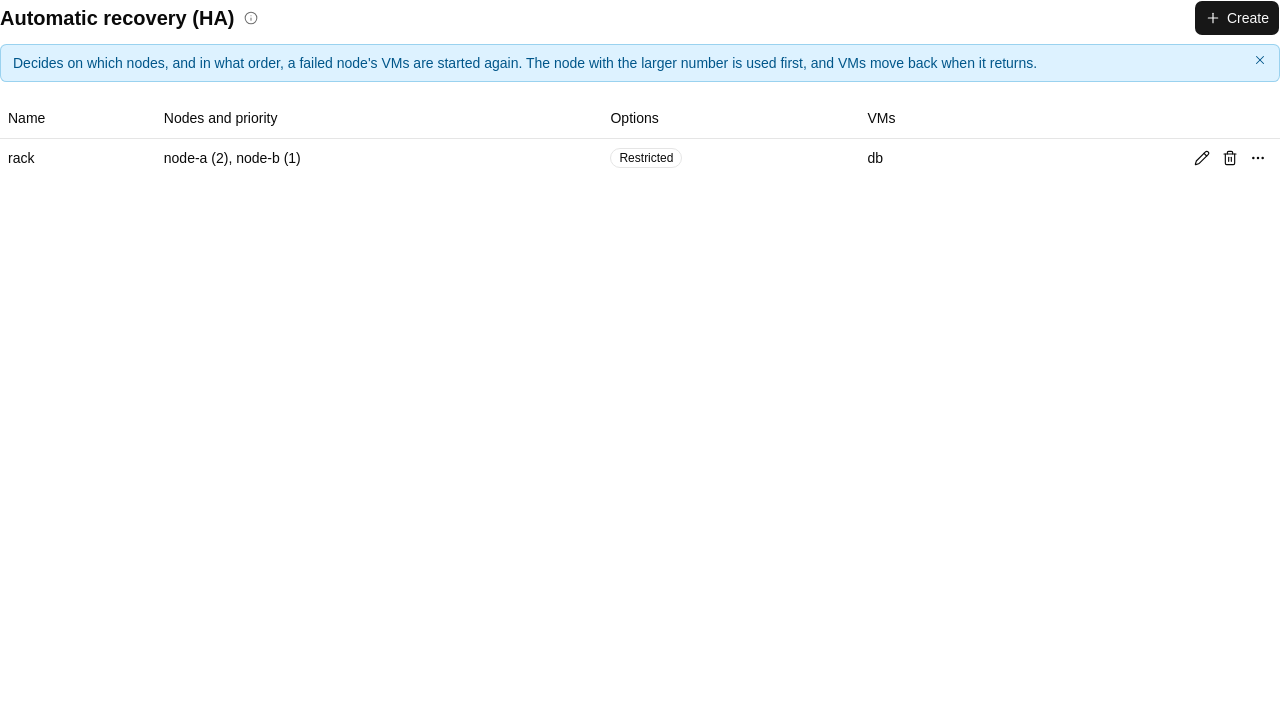
Scenario: says why a group in use cannot be deleted
Click the button named "Delete HA group rack": coordinates (1230, 158) [1216, 144, 1244, 172]
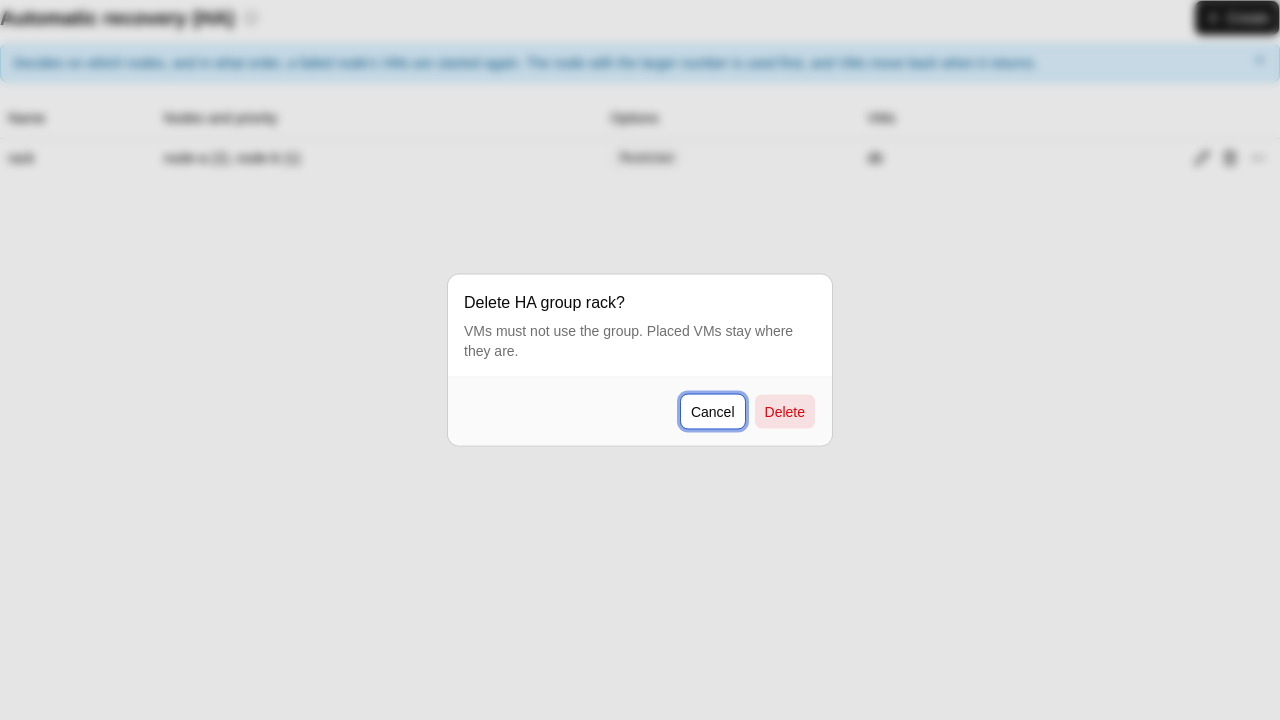
Click the button "Delete": coordinates (785, 412) [754, 394, 816, 430]
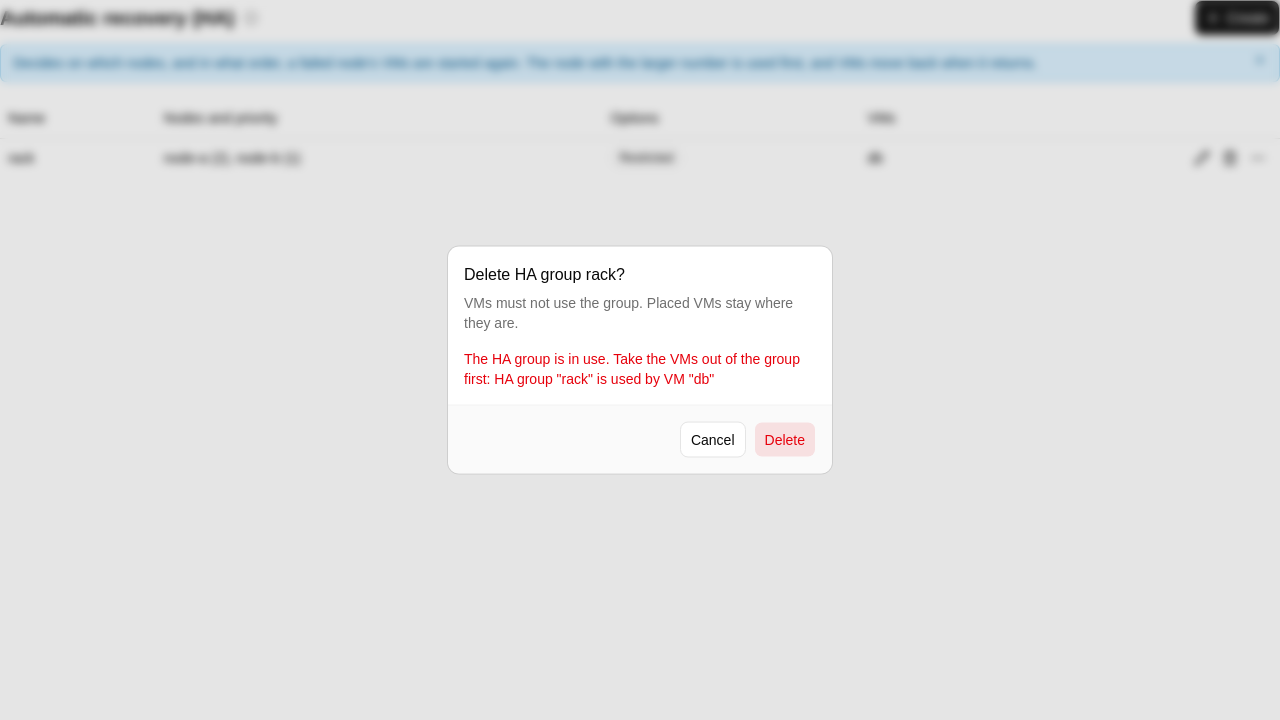
Check: the message shows "The HA group is in use. Take the VMs out of the group first: HA group \"rack\" is used by VM \"db\"", box [464, 350, 800, 386]
